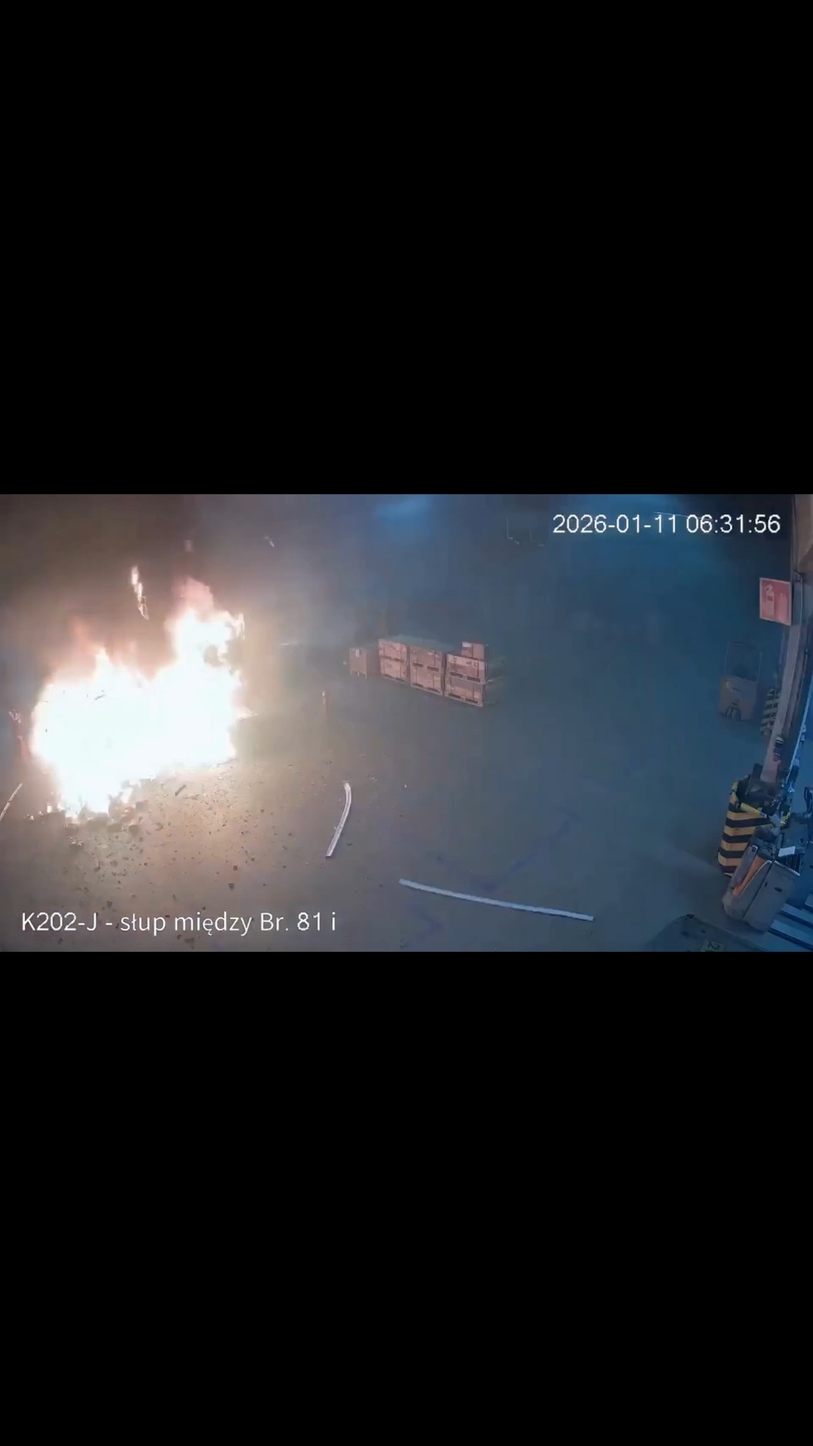fire: (24, 577, 248, 823)
smoke: (0, 494, 476, 670)
